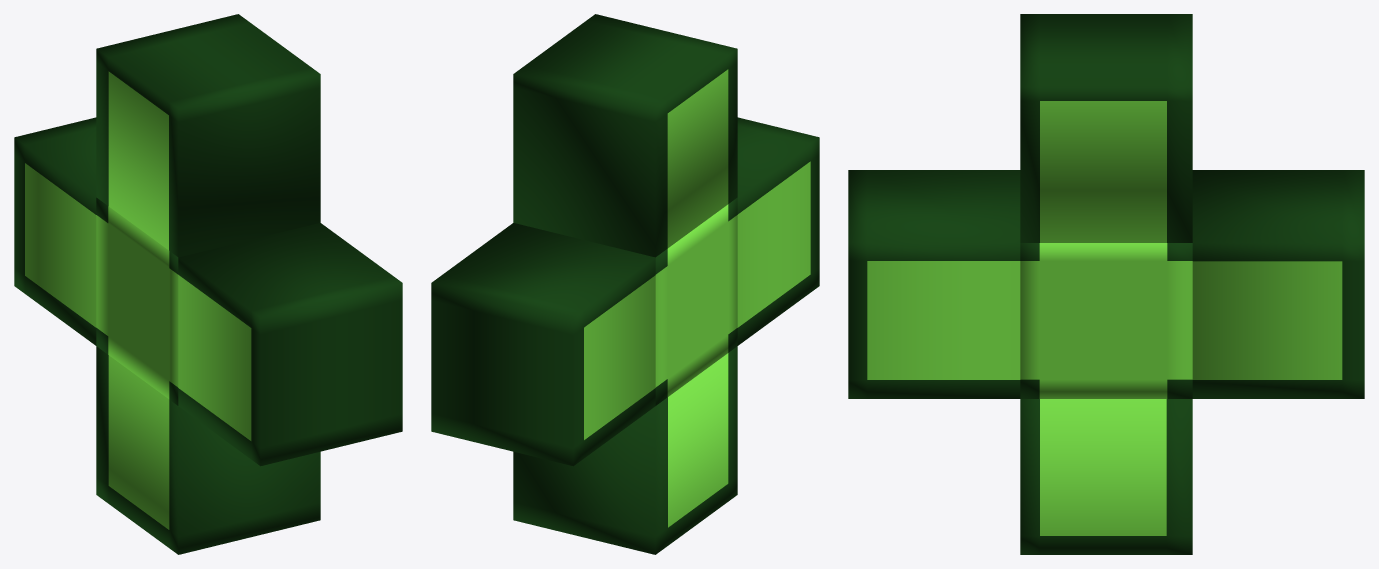
File: Health Icon.fbx
3 views of the same model, side by side, from view 1: azimuth 30°, elevation 25°; view 2: azimuth 150°, elevation 25°; view 3: azimuth 270°, elevation 25° (orthographic). The views are drawn at different scales.
Visible parts, largest first — view 1: HealthIcon; view 2: HealthIcon; view 3: HealthIcon.
Part boxes in pixels (x1,y1,x2,y2): HealthIcon: [14, 14, 402, 554]; HealthIcon: [431, 14, 819, 554]; HealthIcon: [848, 14, 1364, 554].
Size of the model in its own units: 200 by 600 by 600.
